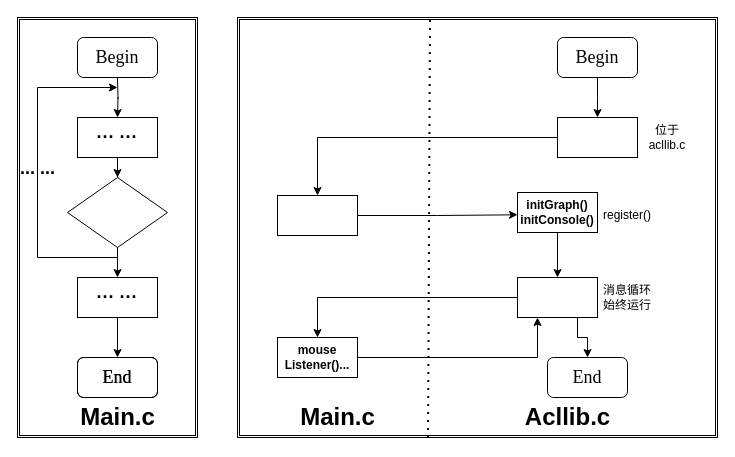
Some shapes in this 735 by 457 pixel diagram are drawn without their labels. The shapes that lost their labels are listed below. From the top down, each one's centre as x and y in pixels, then its label:
(x=597, y=137): WinMain()
(x=117, y=212): if···else
(x=317, y=215): Setup()
(x=557, y=297): Message loop
